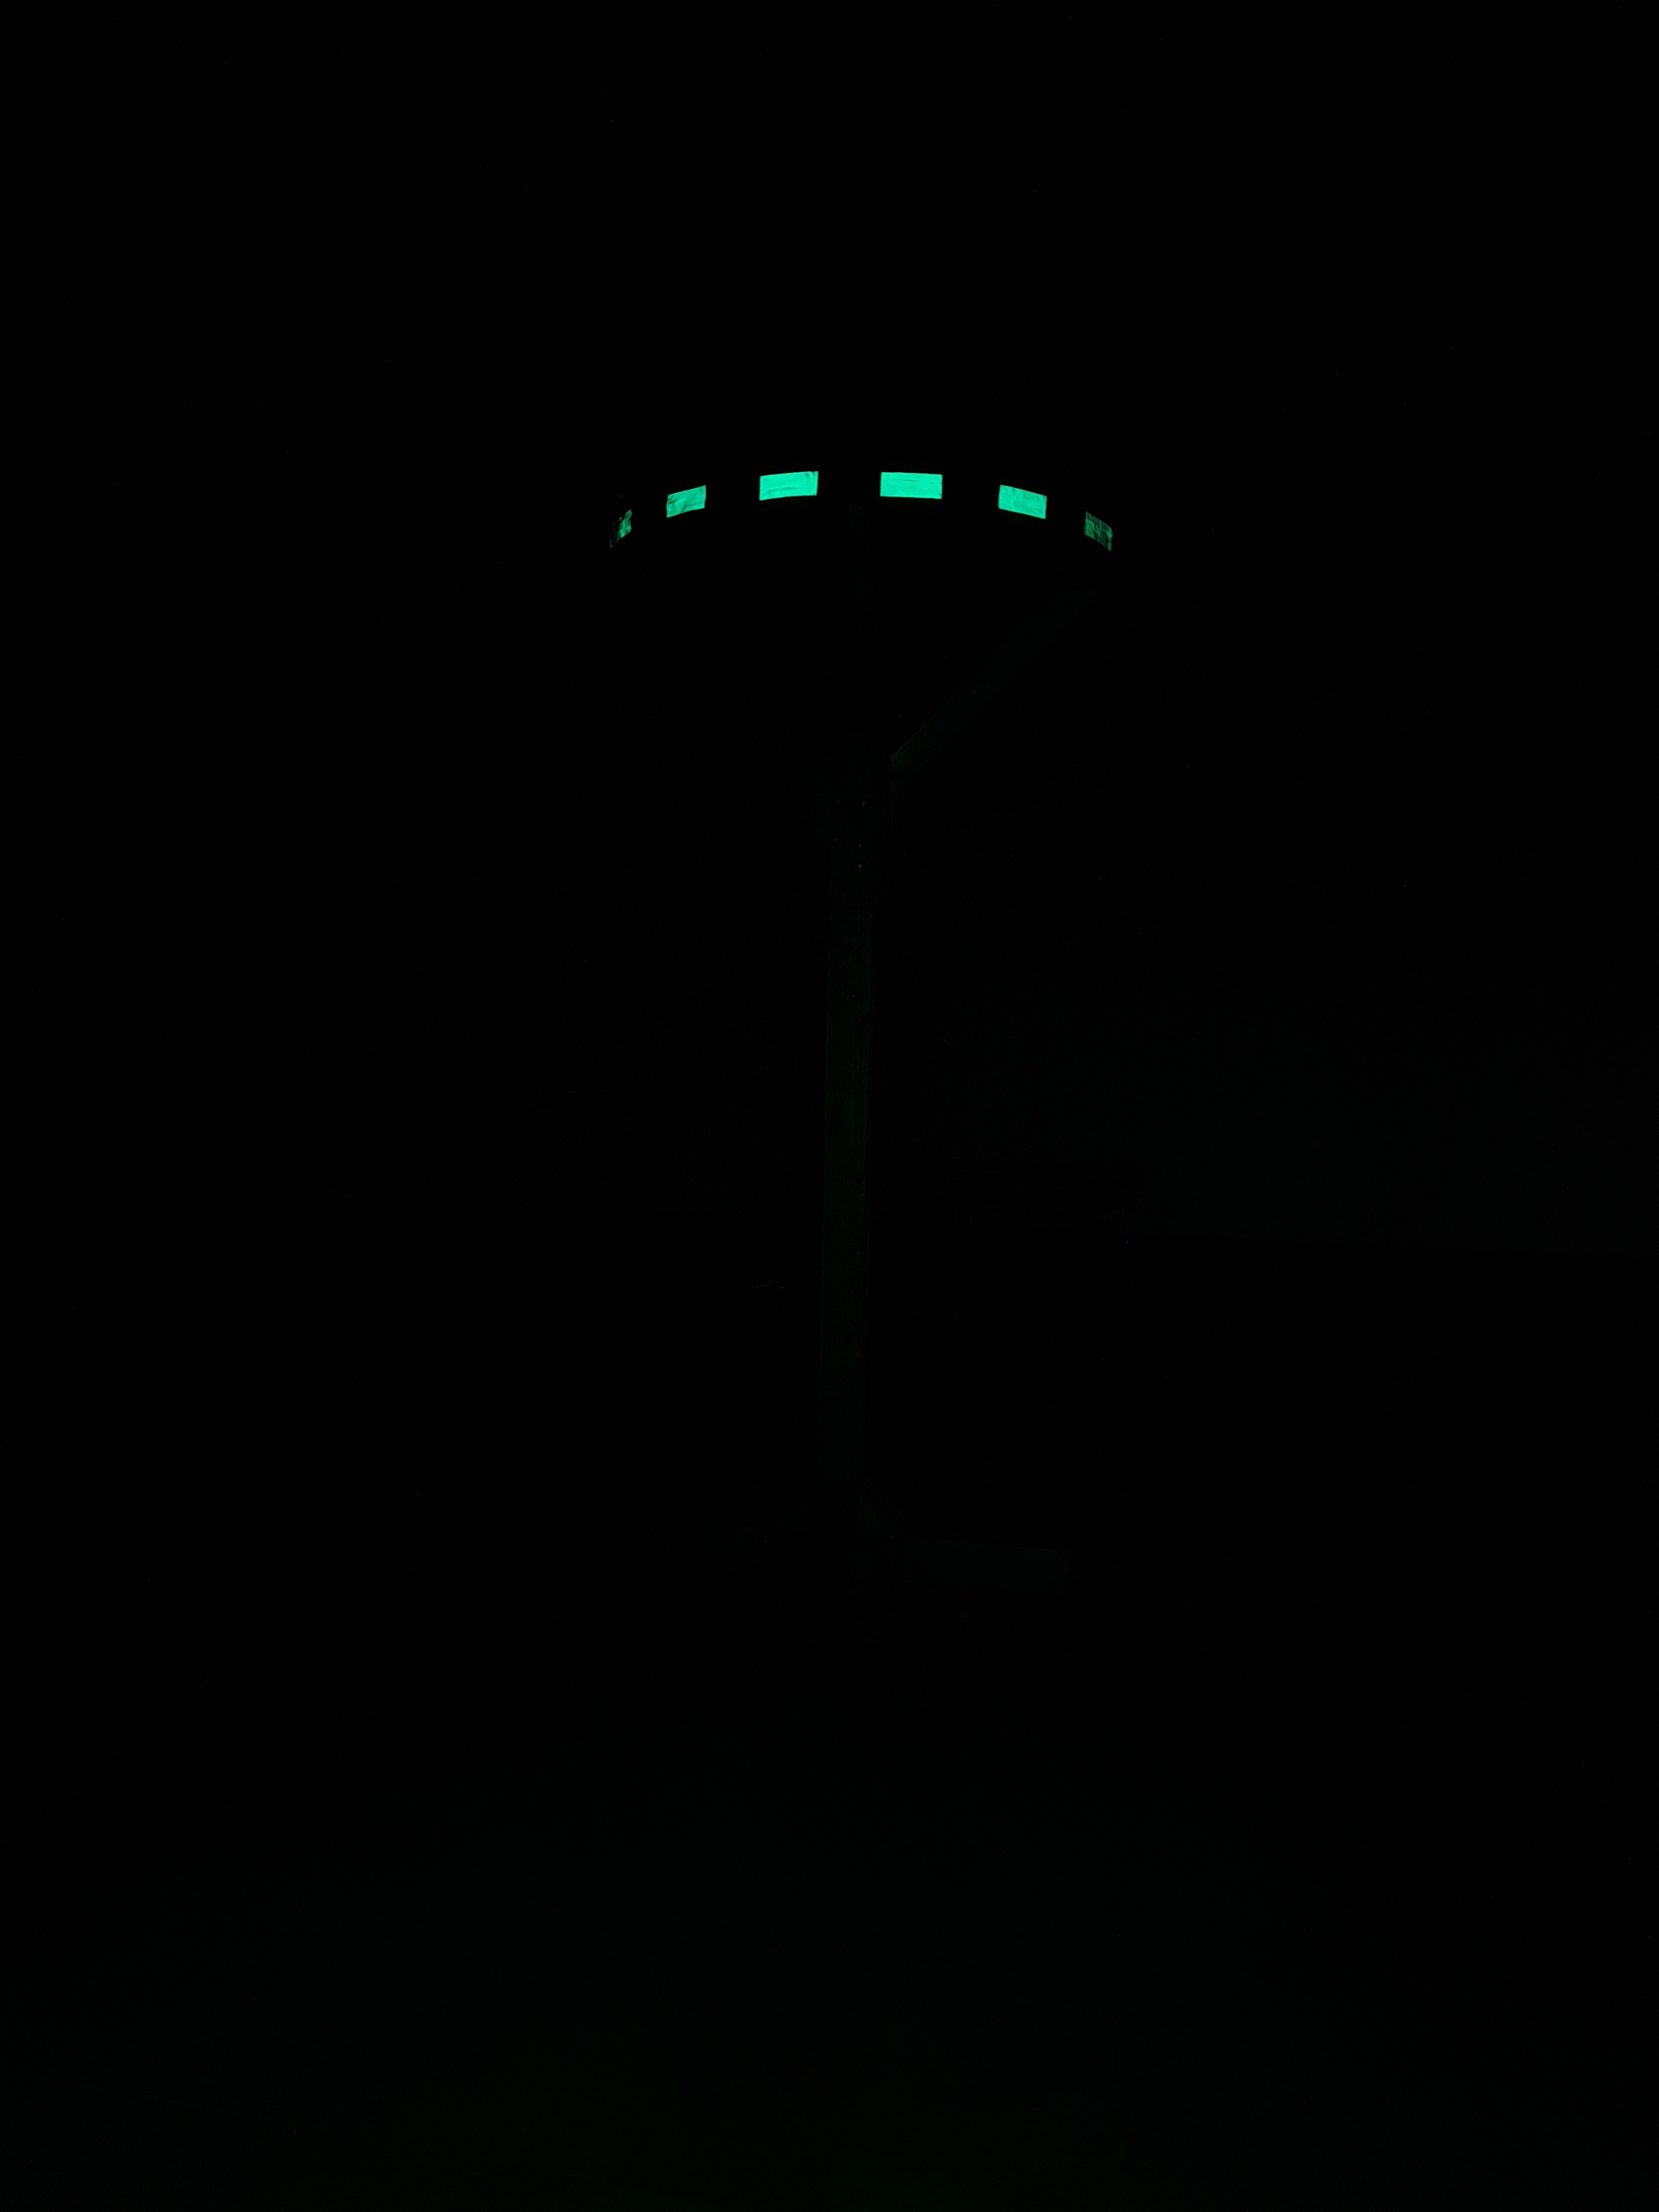hoop: (601, 462, 1121, 573)
